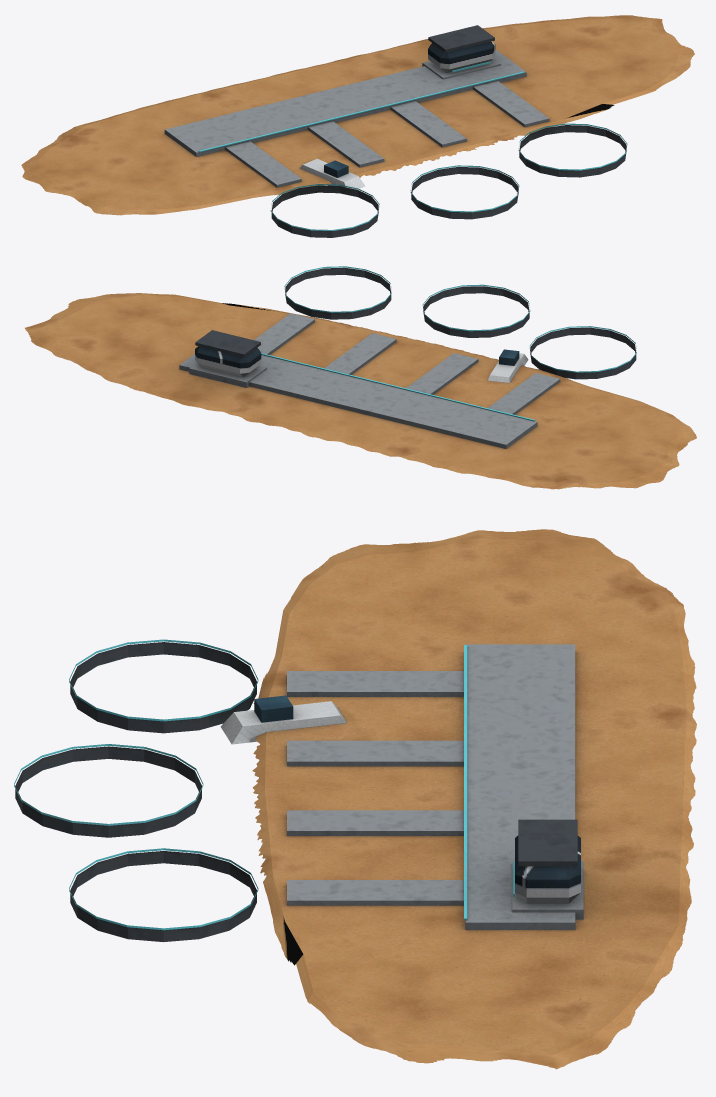
The model's file is fishing_boats-future.glb.
The picture shows the model from 3 angles, top to bottom: view 1: azimuth 30°, elevation 25°; view 2: azimuth 150°, elevation 25°; view 3: azimuth 270°, elevation 25°; orthographic projection. The views are drawn at different scales.
Visible parts, largest first — view 1: LOD0; view 2: LOD0; view 3: LOD0.
Part boxes in pixels (x1,y1,x2,y2): LOD0: (21,15,694,237); LOD0: (25,266,696,489); LOD0: (14,529,696,1069).
Size of what is drawn, in the model's own units: 4.79 by 0.2499 by 2.51.
2 materials, 2 textured.
